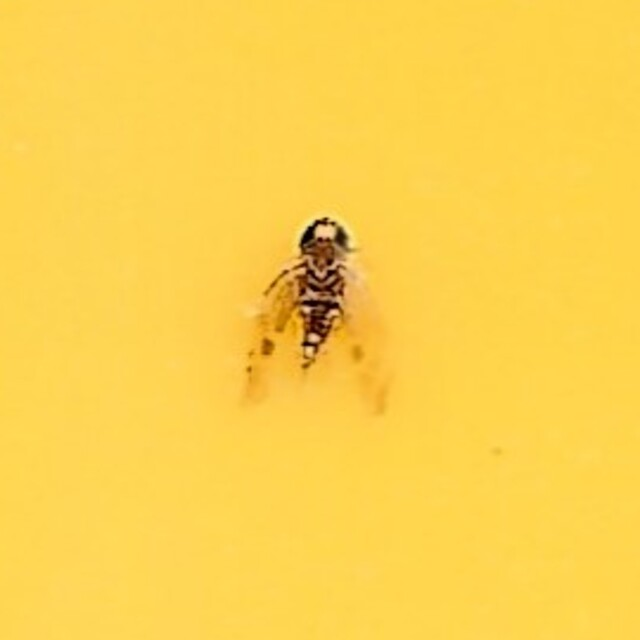Hemiptera: (237, 218, 403, 422)
